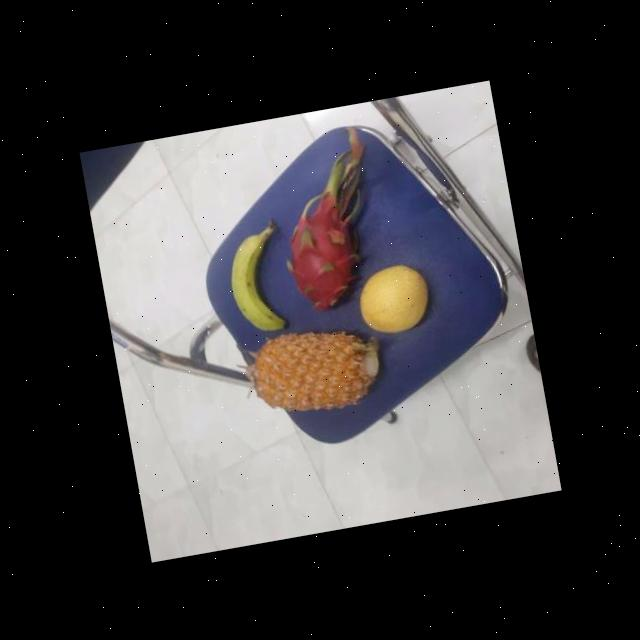banana: (222, 228, 292, 337)
pear: (356, 257, 435, 340)
pineapple: (247, 316, 388, 422)
pitaya: (281, 196, 369, 318)
